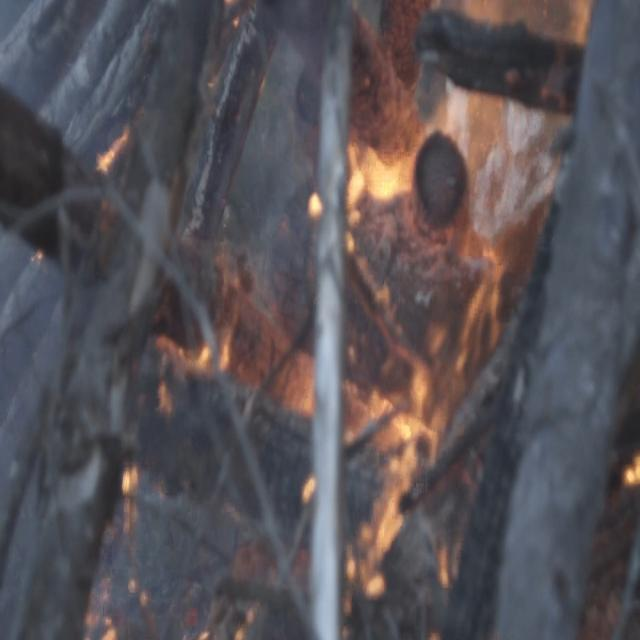Fire: (303, 378, 462, 588), (304, 120, 428, 220), (146, 311, 228, 415), (79, 130, 135, 190), (109, 463, 143, 497)
